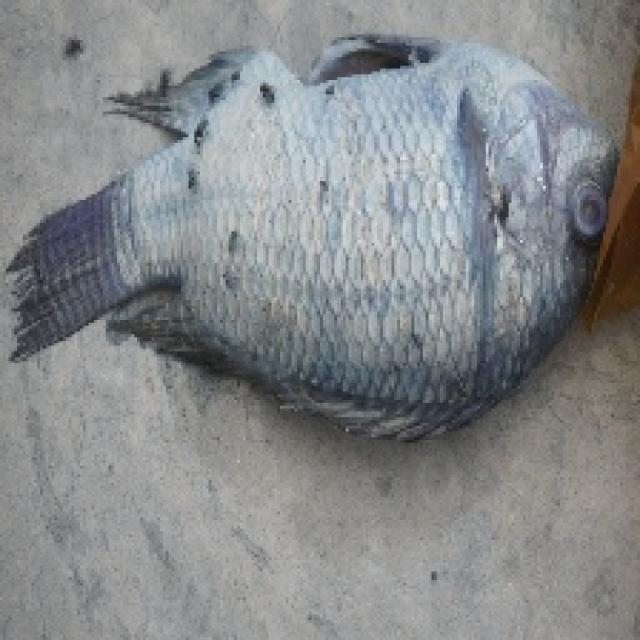Non-Fresh: (76, 50, 634, 378)
